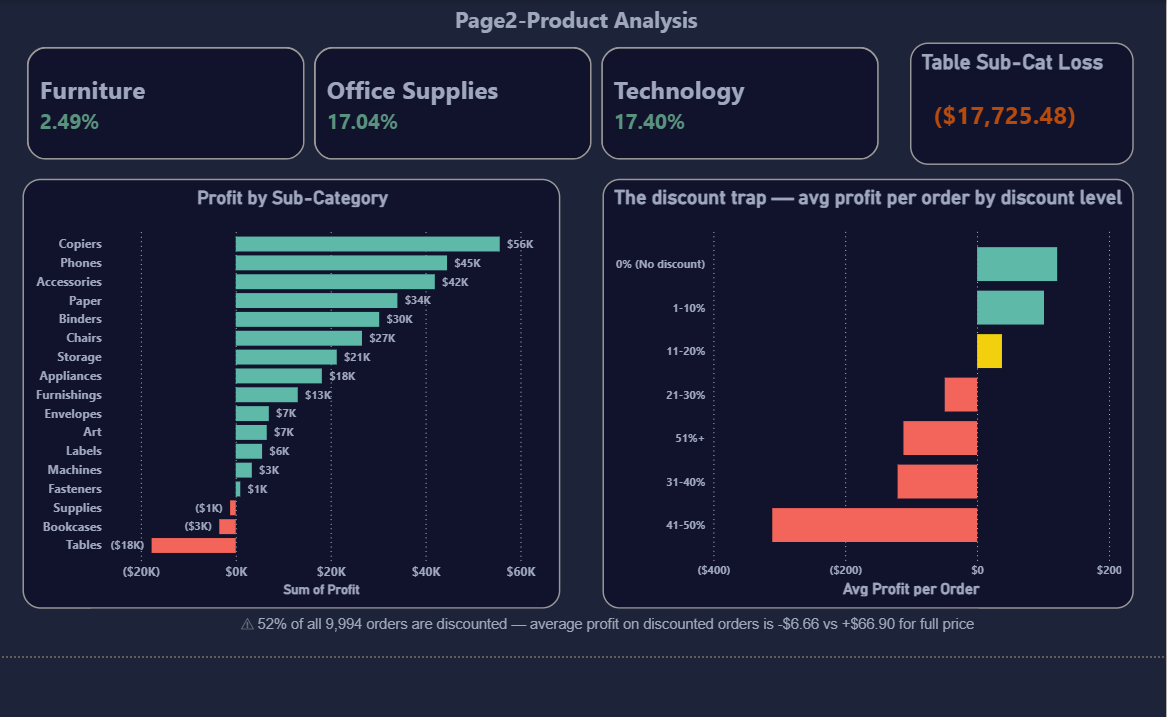

Layout of this report page (visuals, bound fields, positions):
{"tool":"powerbi","page":{"name":"Product Analysis","canvas":[1280,720],"ordinal":1},"visuals":[{"type":"textbox","box":[466.6,0,332.1,74.1],"z":0},{"type":"advancedSlicerVisual","fields":{"Label":["superstore_enriched.Profit Margin %"],"Values":["superstore_enriched.Category"]},"box":[24.7,46.7,946.8,134.5],"z":1000},{"type":"advancedSlicerVisual","title":"Table Sub-Cat Loss","fields":{"Label":["Sum(superstore_enriched.Profit)"],"Values":["superstore_enriched.Sub-Category"]},"box":[999,46.7,245.6,134.5],"z":2000},{"type":"clusteredBarChart","title":"Profit by Sub-Category","fields":{"Category":["superstore_enriched.Sub-Category"],"Y":["Sum(superstore_enriched.Profit)"]},"box":[24.7,196.2,590.1,472],"z":3000},{"type":"clusteredBarChart","title":"The discount trap — avg profit per order by discount level","fields":{"Y":["superstore_enriched.Avg Profit per Order"],"Category":["superstore_enriched.DiscountBand"]},"box":[661.4,196.2,583.2,472],"z":4000},{"type":"textbox","box":[100.2,668.3,974.3,32.9],"z":5000}]}

Visuals, with their boxes on the page's 1280x720 design canvas (x1, y1, x2, y2). These are canvas units, not pixel positions in the 1167x717 screenshot, which may show the page scaled, cropped or inside an application window:
textbox: 467 0 799 74
advancedSlicerVisual - superstore_enriched.Profit Margin % x superstore_enriched.Category: 25 47 972 181
"Table Sub-Cat Loss" advancedSlicerVisual: 999 47 1245 181
"Profit by Sub-Category" clusteredBarChart: 25 196 615 668
"The discount trap — avg profit per order by discount level" clusteredBarChart: 661 196 1245 668
textbox: 100 668 1074 701
